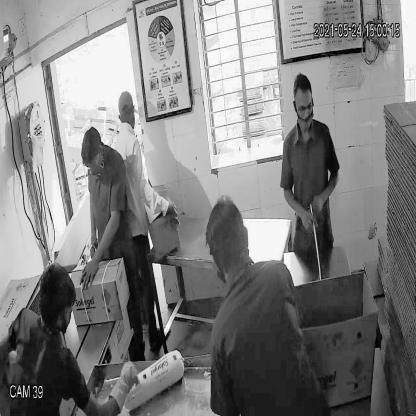goggles: (292, 98, 315, 118)
